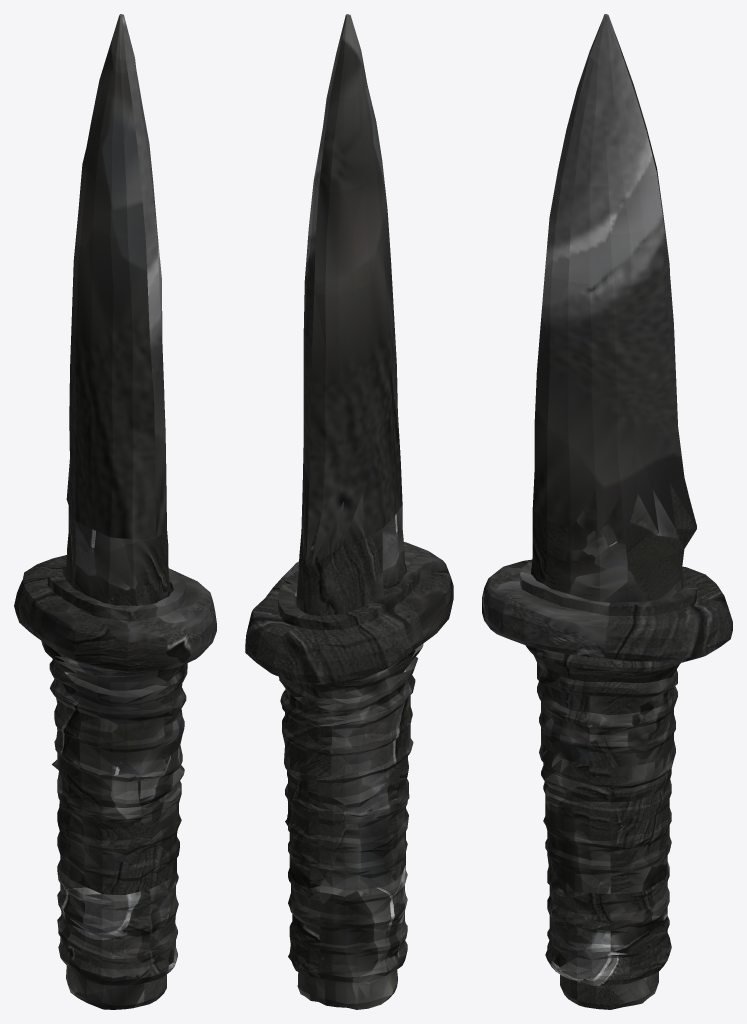
File: bone_dagger.obj
3 renders of one model, left to right at view 1: azimuth 30°, elevation 25°; view 2: azimuth 150°, elevation 25°; view 3: azimuth 270°, elevation 25°, orthographic.
Bounding box in the file's own units: 0.9511 × 6 × 1.4.
